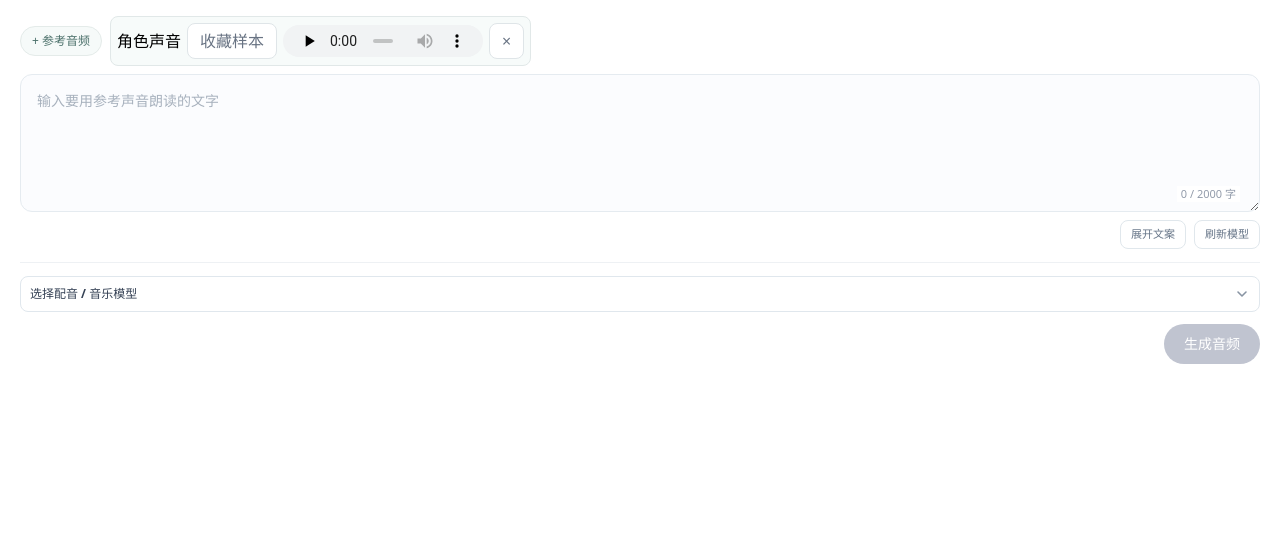
音频生成任务提交 › 声音样本素材失效时保留引用并提示，不提交付费任务
Click the button with aria-label "音频生成模型".
click(84, 294)  # box left=20, top=276, right=1260, bottom=312
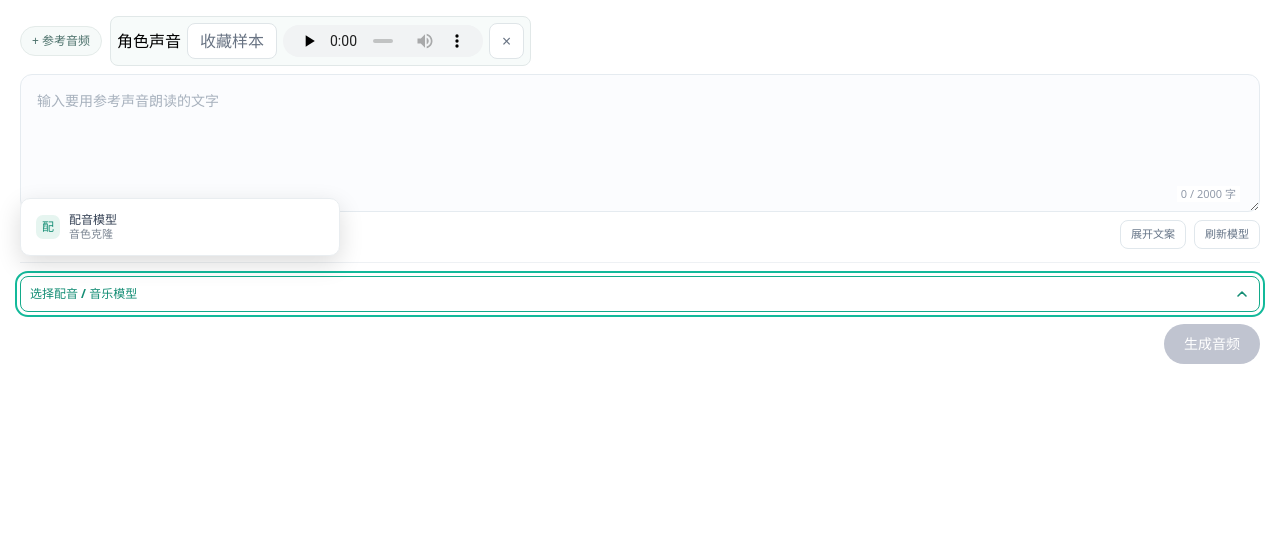
Expected: the option "配 配音模型 音色克隆" is shown
Click the option "配 配音模型 音色克隆".
click(93, 219)  # box left=26, top=204, right=334, bottom=250
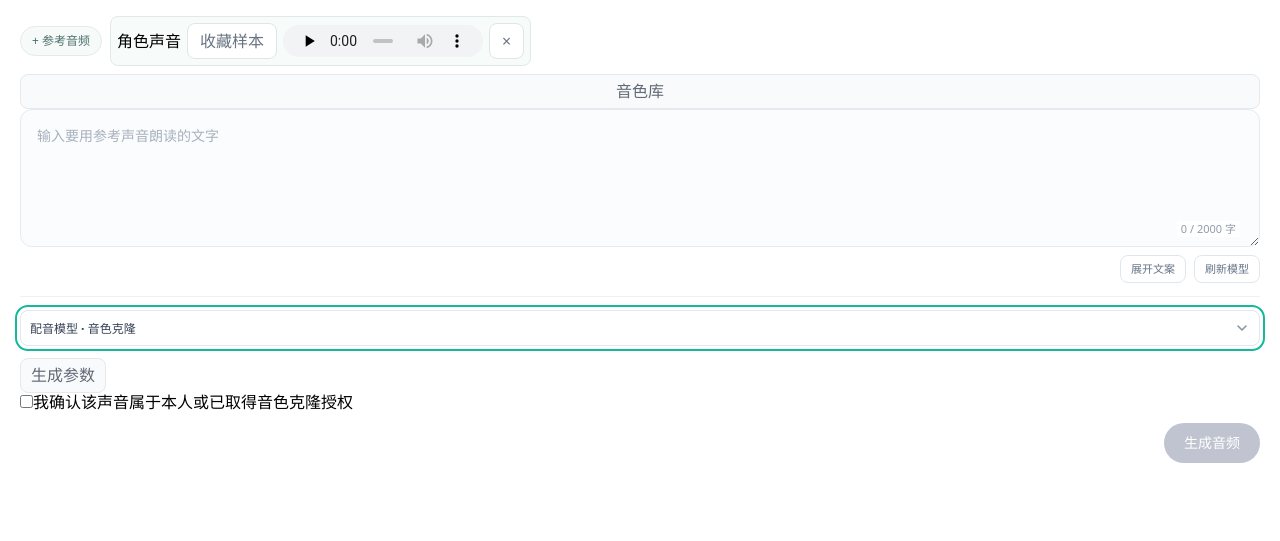
Type "你好，欢迎使用帧智汇" into the text box named "配音文案或音乐描述".
click(640, 178); type("你好，欢迎使用帧智汇")  # box left=20, top=109, right=1260, bottom=247
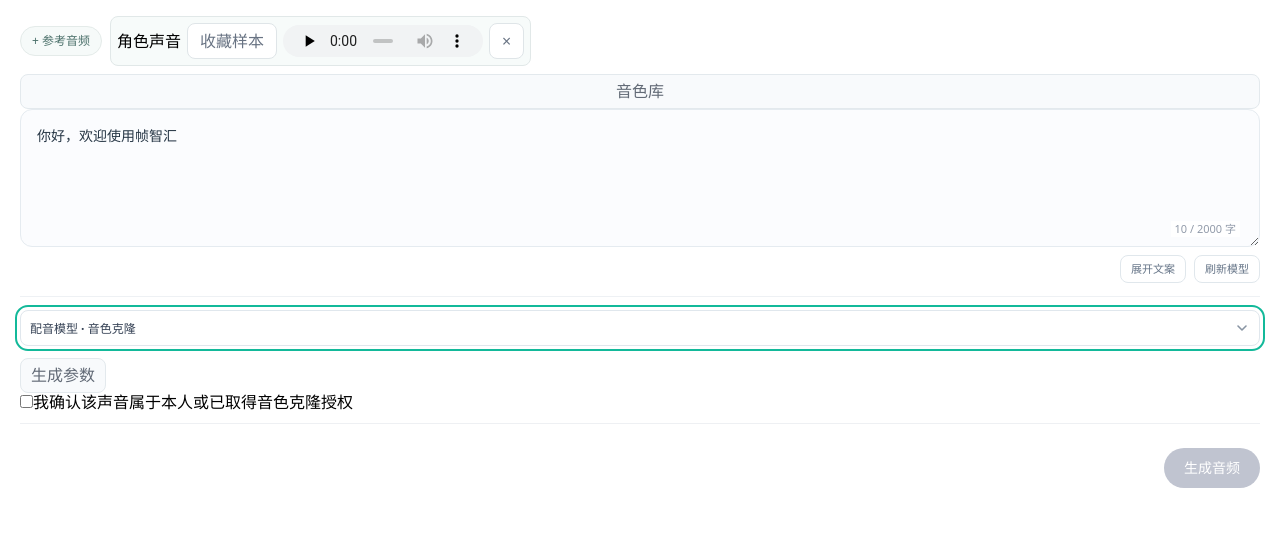
Click the checkbox labelled "我确认该声音属于本人或已取得音色克隆授权".
click(26, 401)  # box left=20, top=395, right=33, bottom=408
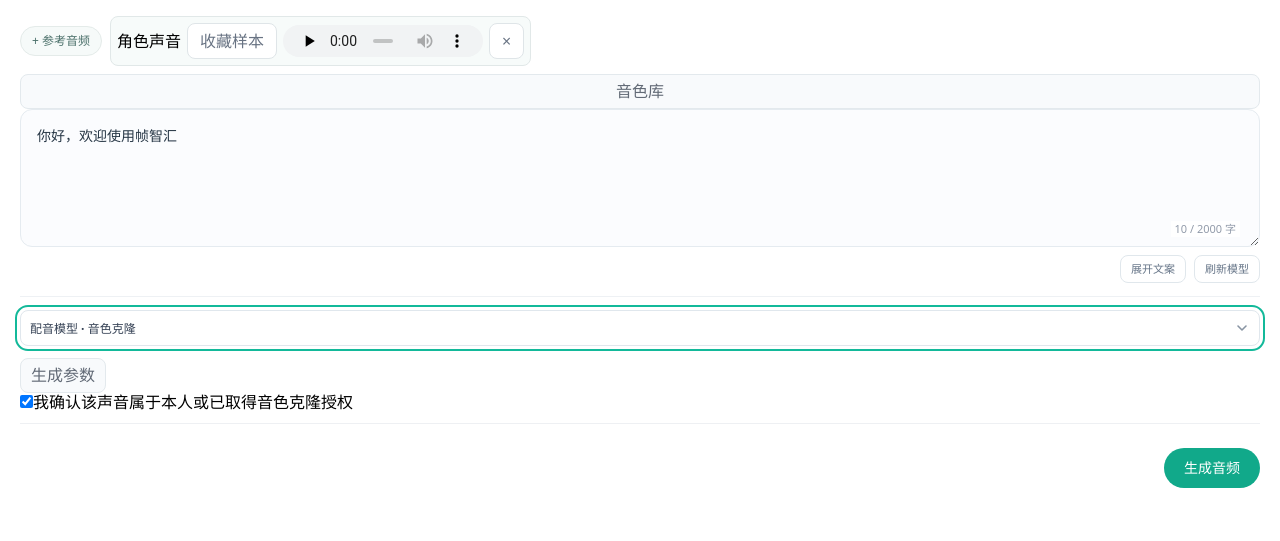
Click the button "生成音频".
click(1212, 468)  # box left=1164, top=448, right=1260, bottom=488
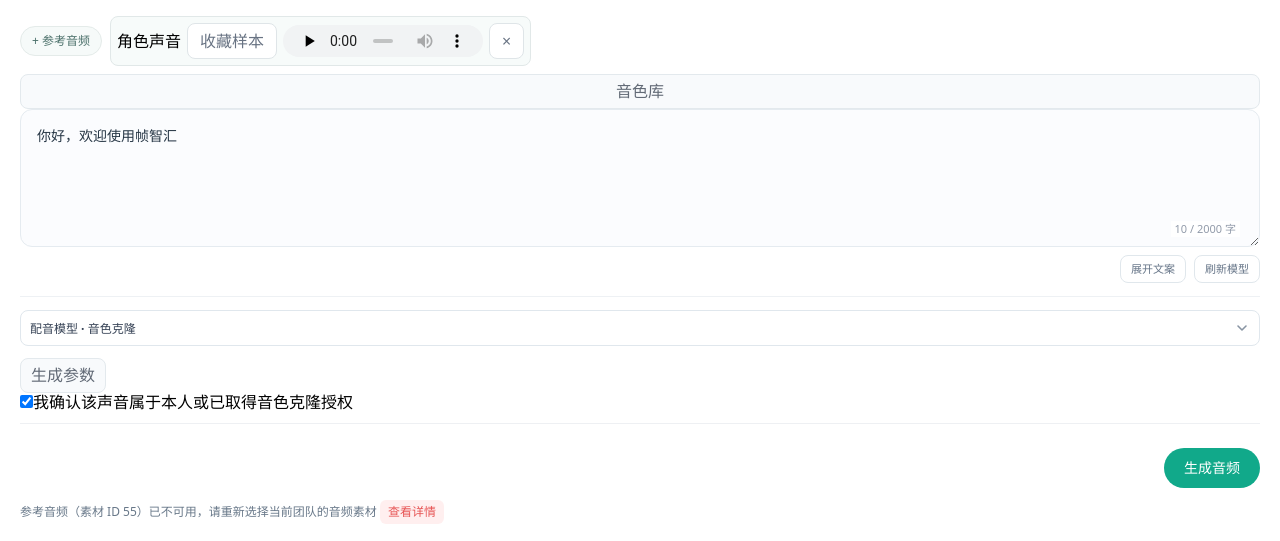
Expected: the text "角色声音" is shown, left=117, top=32, right=181, bottom=50
Expected: the message shows "参考音频（素材 ID 55）已不可用", left=20, top=503, right=377, bottom=520
